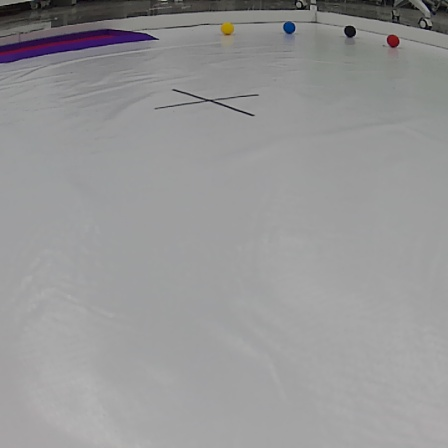black: (341, 23, 359, 38)
blue: (281, 20, 298, 37)
red: (385, 33, 402, 50)
red_aim: (0, 27, 168, 67)
yellow: (219, 21, 237, 36)
